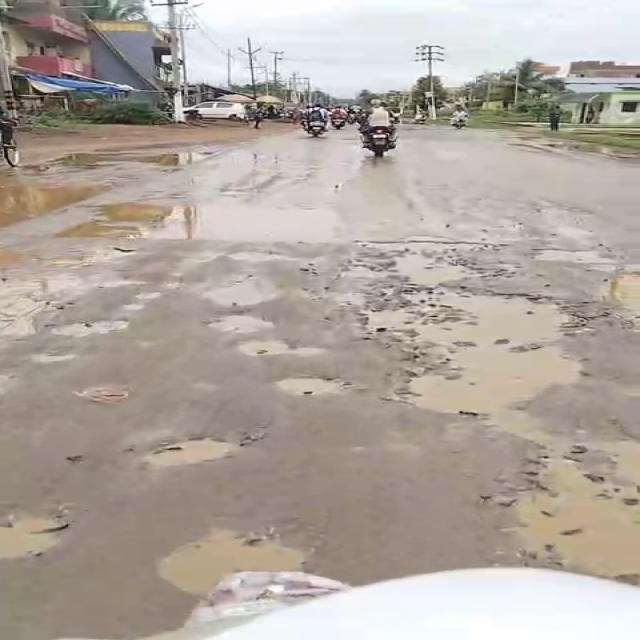pothole: (529, 461, 640, 568), (76, 201, 348, 237), (141, 531, 305, 590), (425, 332, 575, 380), (400, 372, 526, 413), (388, 310, 552, 338), (4, 176, 110, 217), (488, 420, 632, 448), (367, 256, 485, 284), (0, 244, 37, 332), (135, 438, 243, 467), (0, 511, 63, 560), (402, 292, 556, 310), (350, 236, 510, 253), (203, 274, 272, 308), (272, 374, 354, 400), (55, 154, 206, 167), (235, 336, 328, 357), (53, 272, 137, 294), (543, 140, 634, 158), (203, 315, 282, 335), (526, 248, 610, 266), (225, 247, 312, 264), (402, 181, 434, 226), (518, 203, 592, 219), (601, 275, 640, 305), (76, 247, 130, 266), (30, 347, 81, 367), (49, 322, 118, 336), (78, 387, 134, 403), (163, 251, 213, 268), (315, 290, 369, 304), (538, 228, 590, 242), (125, 290, 165, 304), (158, 274, 188, 292), (118, 302, 147, 314)
